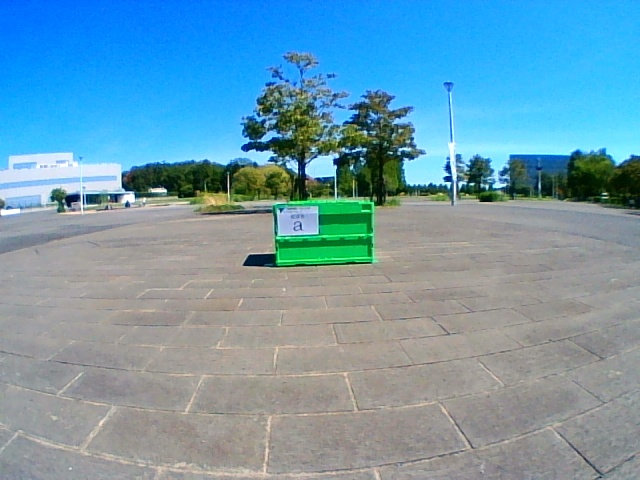green_box: (273, 201, 373, 266)
tag_a: (278, 208, 317, 234)
